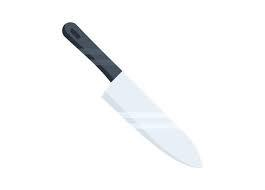Knife: (61, 21, 202, 168)
